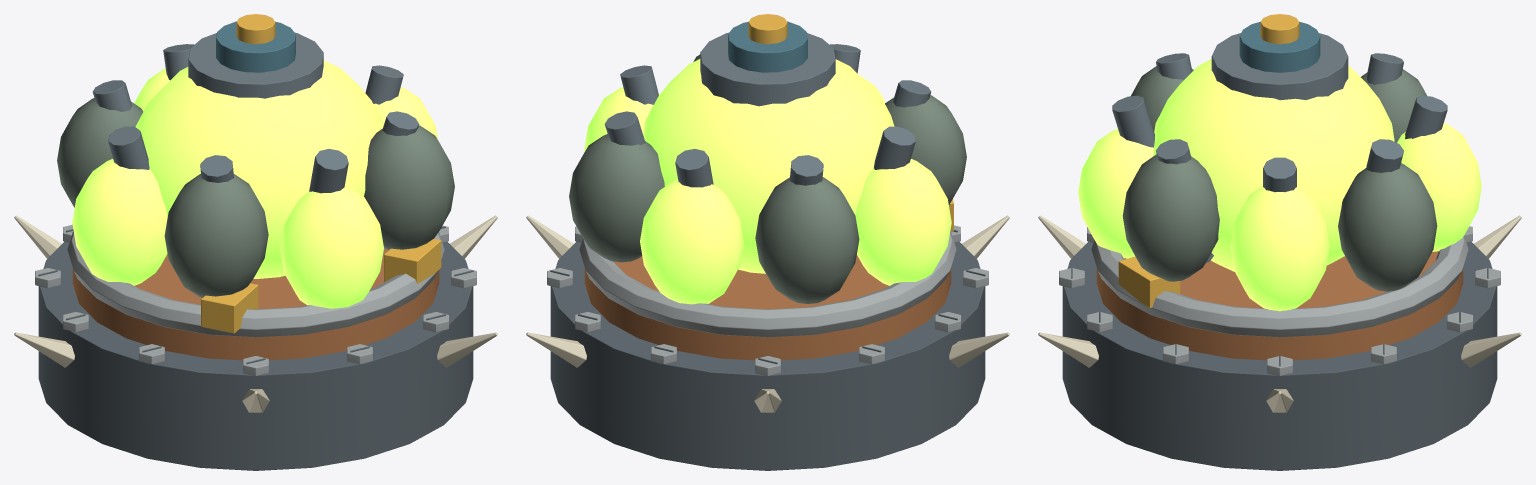
Rendered from 20_Corrosive_Bile_Landmine.fbx.
3 views of the same model, side by side, from view 1: azimuth 30°, elevation 25°; view 2: azimuth 150°, elevation 25°; view 3: azimuth 270°, elevation 25° (orthographic).
Parts seen in each view (by area): view 1: 20_Corrosive_Bile_Landmine; view 2: 20_Corrosive_Bile_Landmine; view 3: 20_Corrosive_Bile_Landmine.
Boxes of the visible parts, x1=… form: 20_Corrosive_Bile_Landmine: x1=14, y1=14, x2=497, y2=470; 20_Corrosive_Bile_Landmine: x1=526, y1=14, x2=1009, y2=470; 20_Corrosive_Bile_Landmine: x1=1038, y1=14, x2=1521, y2=470.
Bounding box in the file's own units: 1.8 × 1.27 × 1.56.
